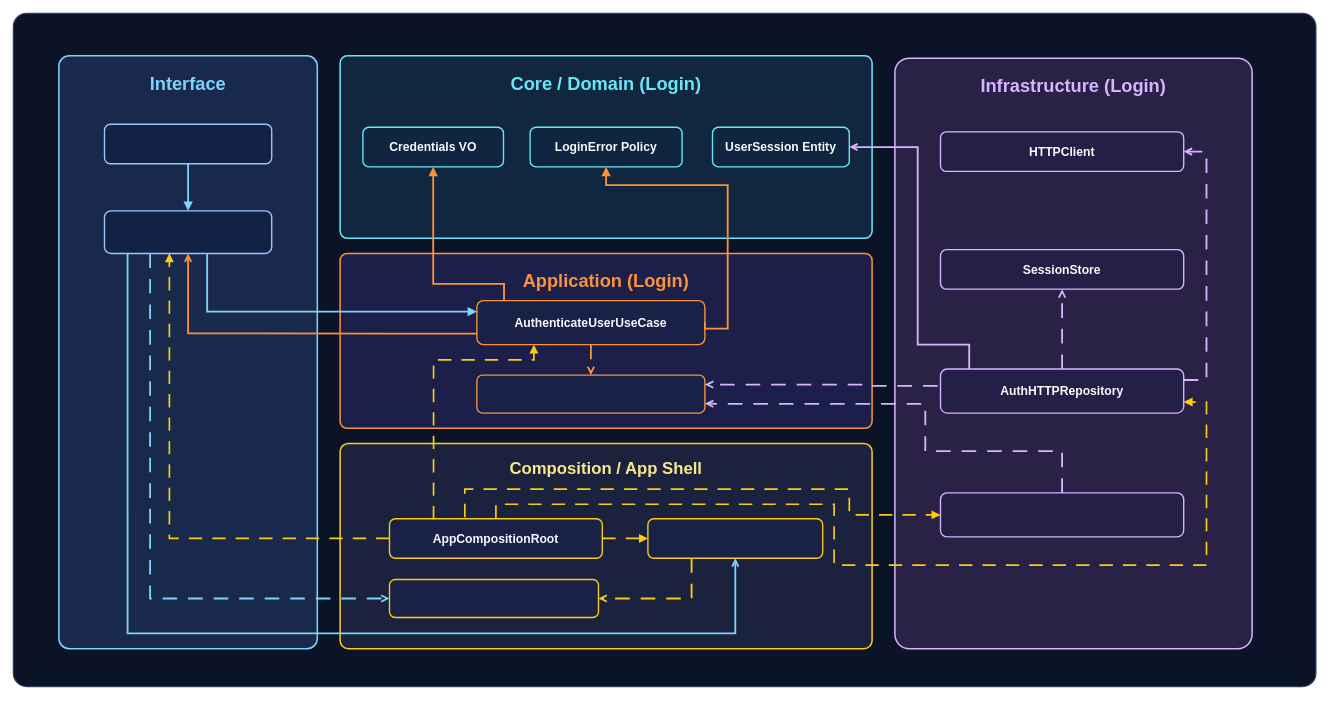
This 1330x701 diagram has some shape labels left out. The shapes that lost their labels are listed below. From the top down, each one's centre as x and y in pixels, then its label:
[187,143]: LoginView
[187,232]: LoginViewModel
[590,393]: AuthRepository (port)
[1061,514]: InMemoryAuthRepository
[735,538]: NavigationStore
[493,598]: LoginNavigating (contract)
